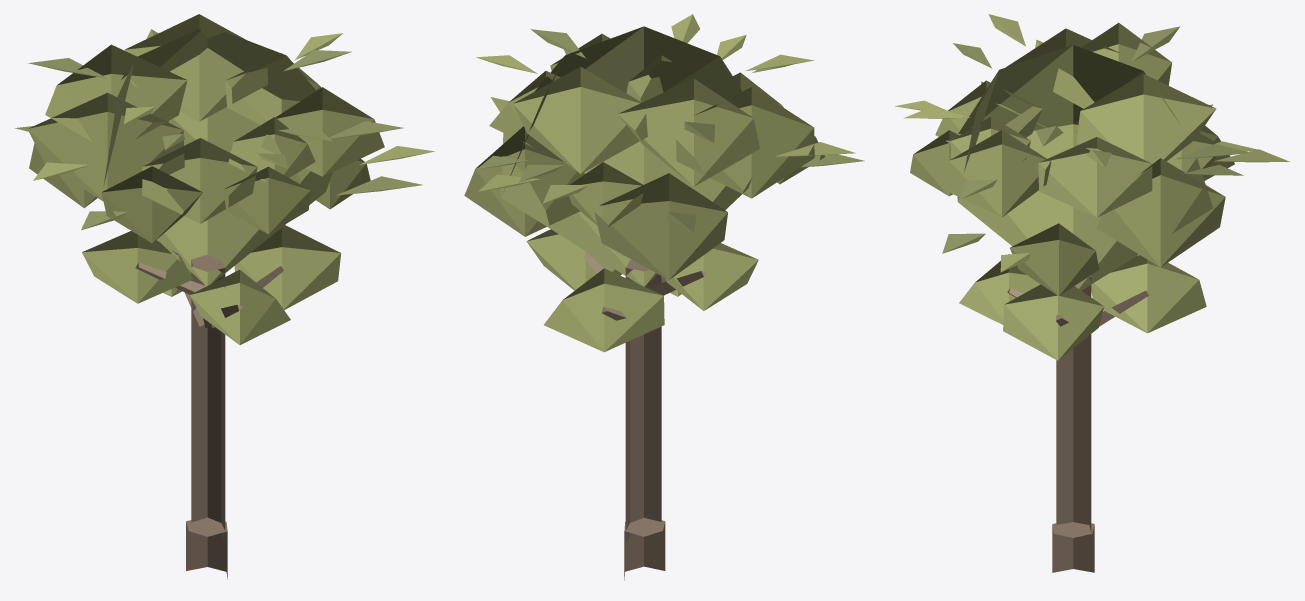
Rendered from shu.longnao@subadult__autumn.glb.
The picture shows the model from 3 angles, left to right: view 1: azimuth 30°, elevation 25°; view 2: azimuth 150°, elevation 25°; view 3: azimuth 270°, elevation 25°; orthographic projection. The views are drawn at different scales.
Visible parts, largest first — view 1: shu.longnao@subadult__autumn; view 2: shu.longnao@subadult__autumn; view 3: shu.longnao@subadult__autumn.
Boxes of the visible parts, x1,y1,x2,y2 form: shu.longnao@subadult__autumn: [14, 14, 434, 579]; shu.longnao@subadult__autumn: [464, 14, 864, 580]; shu.longnao@subadult__autumn: [895, 14, 1289, 572].
Size of the model in its own units: 12.02 by 16.08 by 10.99.
